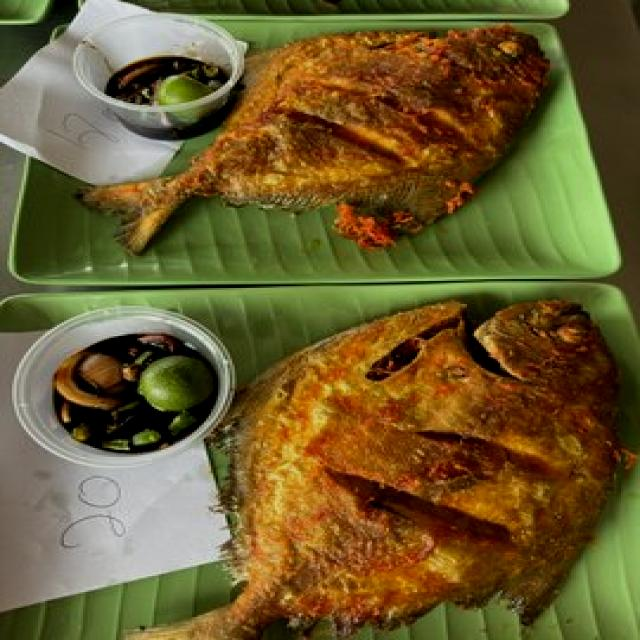ikan bakar: (175, 299, 633, 640), (78, 23, 550, 256)
